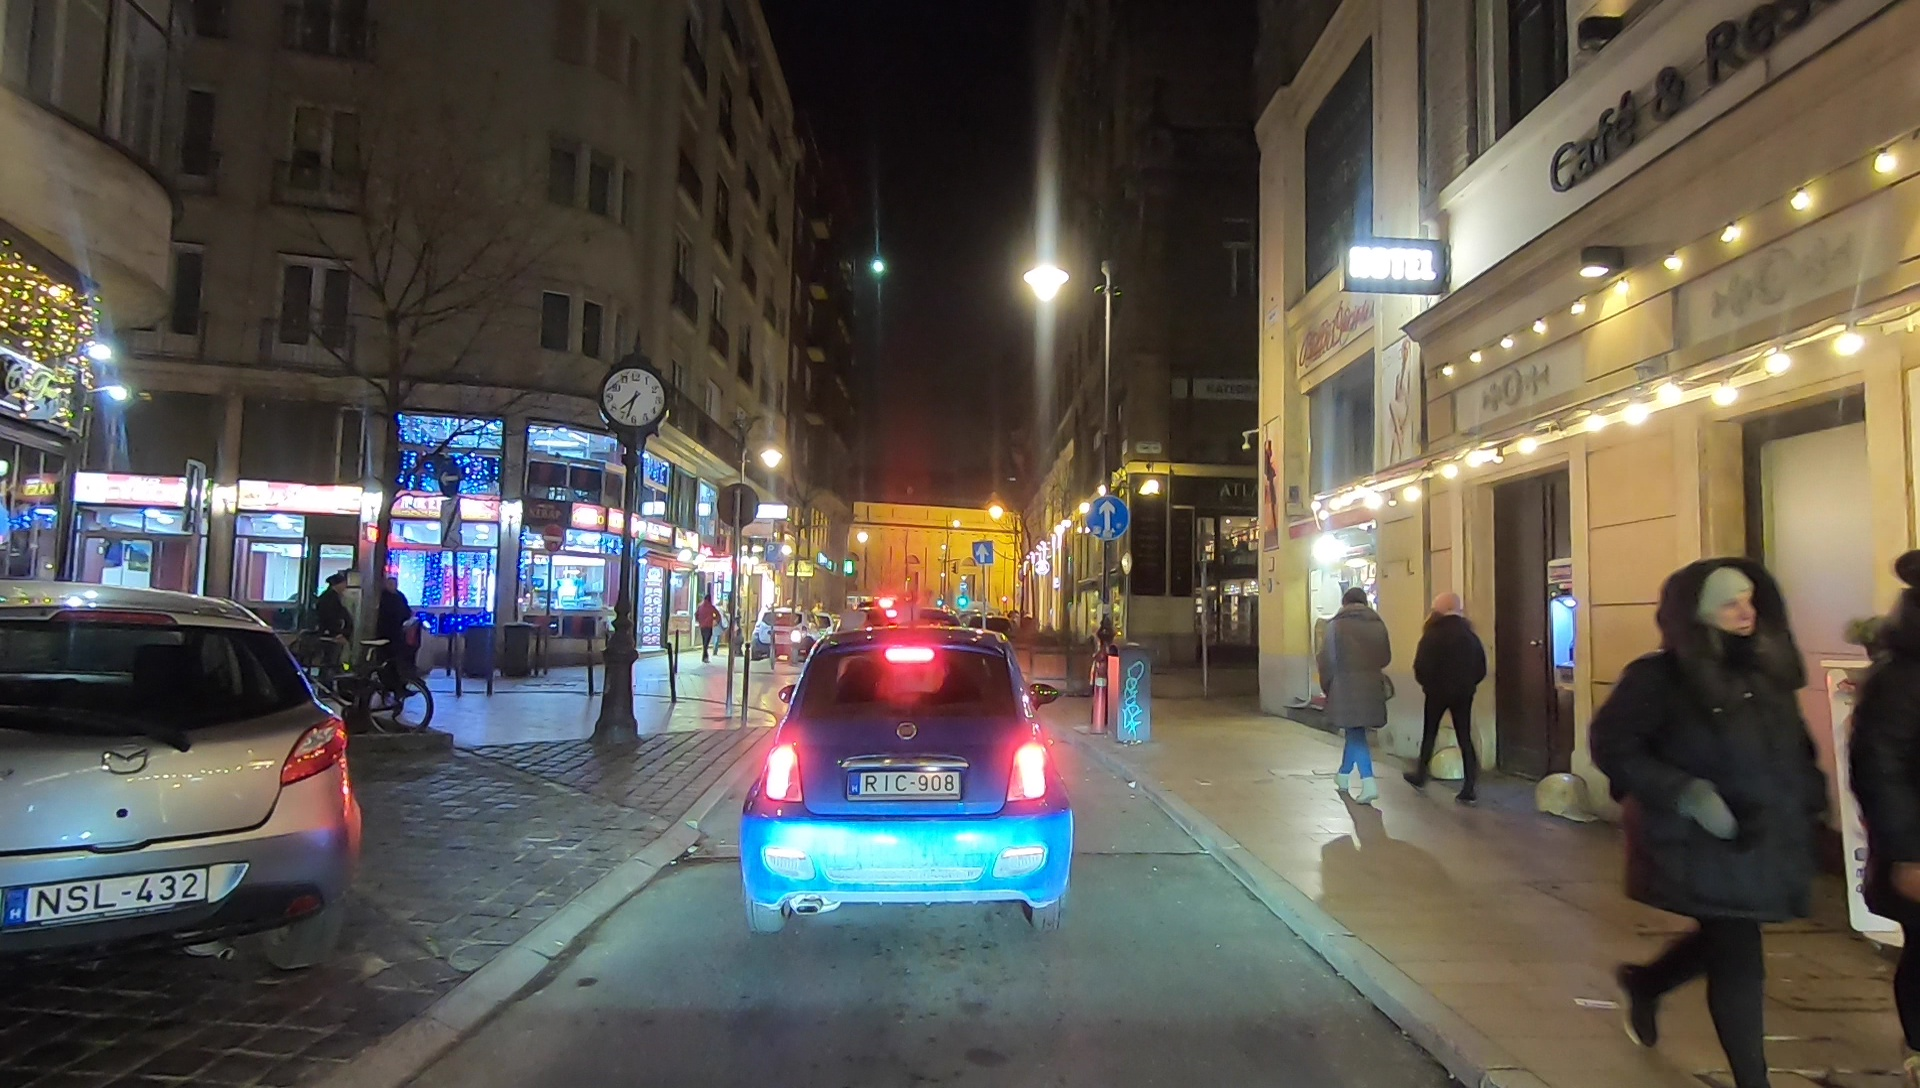person: (1588, 556, 1811, 1088), (1412, 591, 1489, 802), (1317, 593, 1386, 799), (317, 574, 349, 686), (378, 580, 408, 687), (697, 595, 717, 663)
